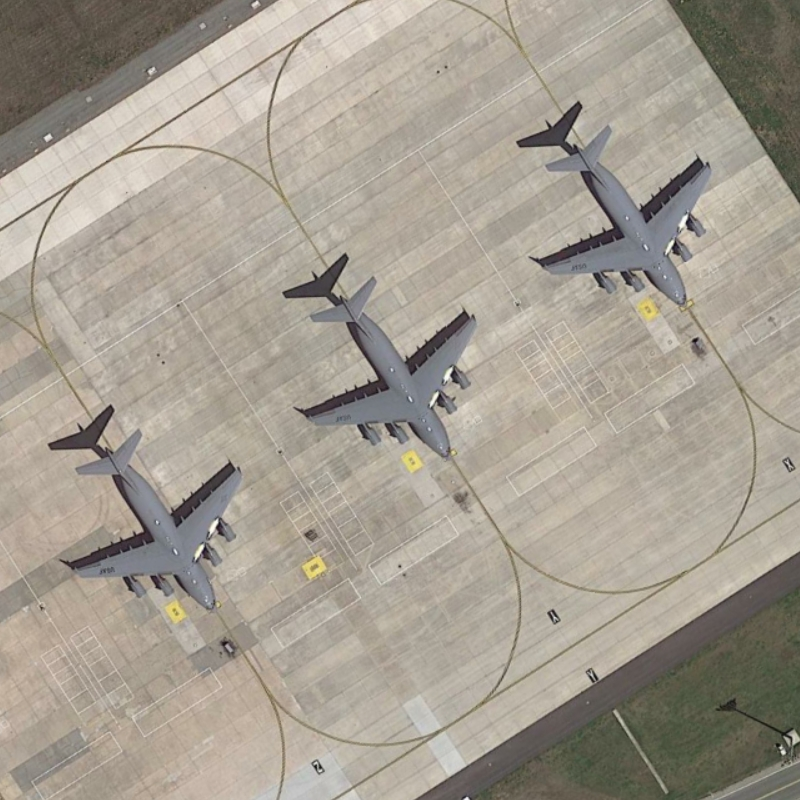A3: (299, 272, 482, 467), (68, 427, 249, 619), (538, 119, 715, 315)
